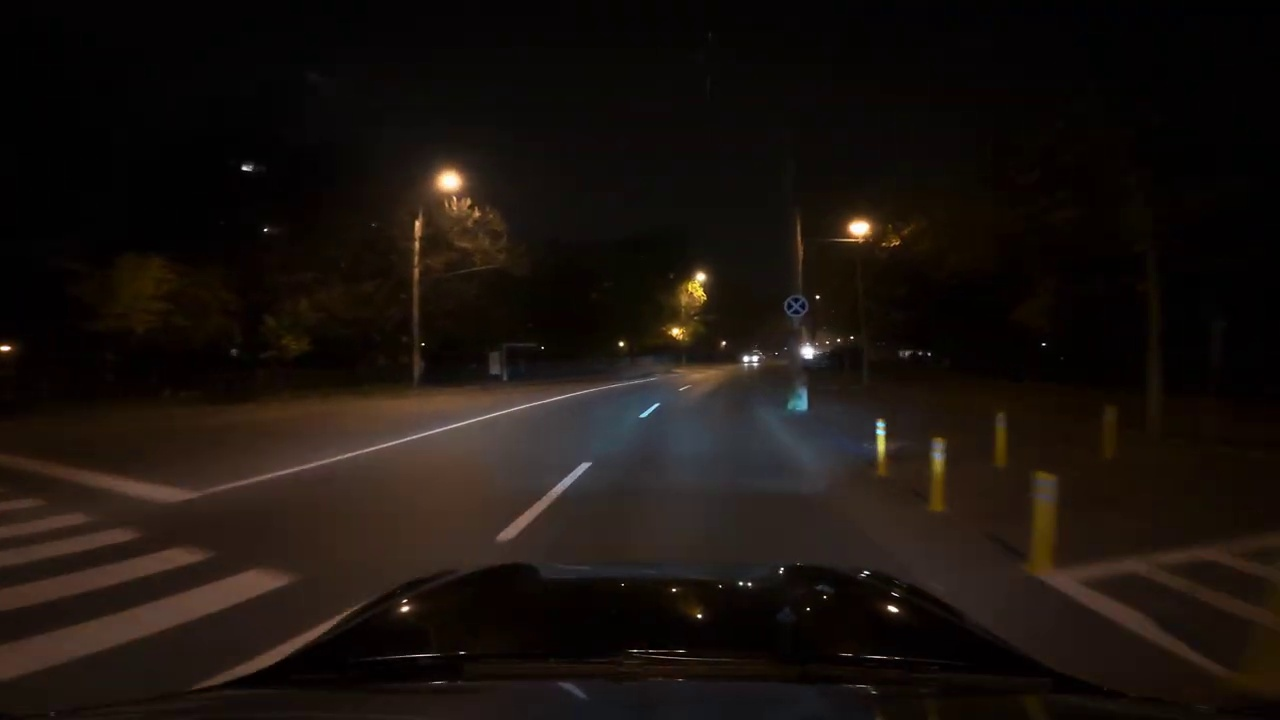acesa: (432, 166, 467, 198)
